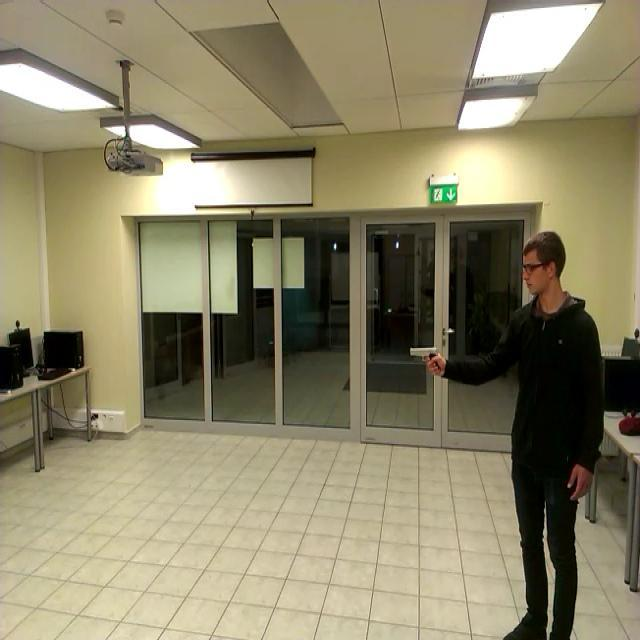Gun: (402, 338, 448, 374)
